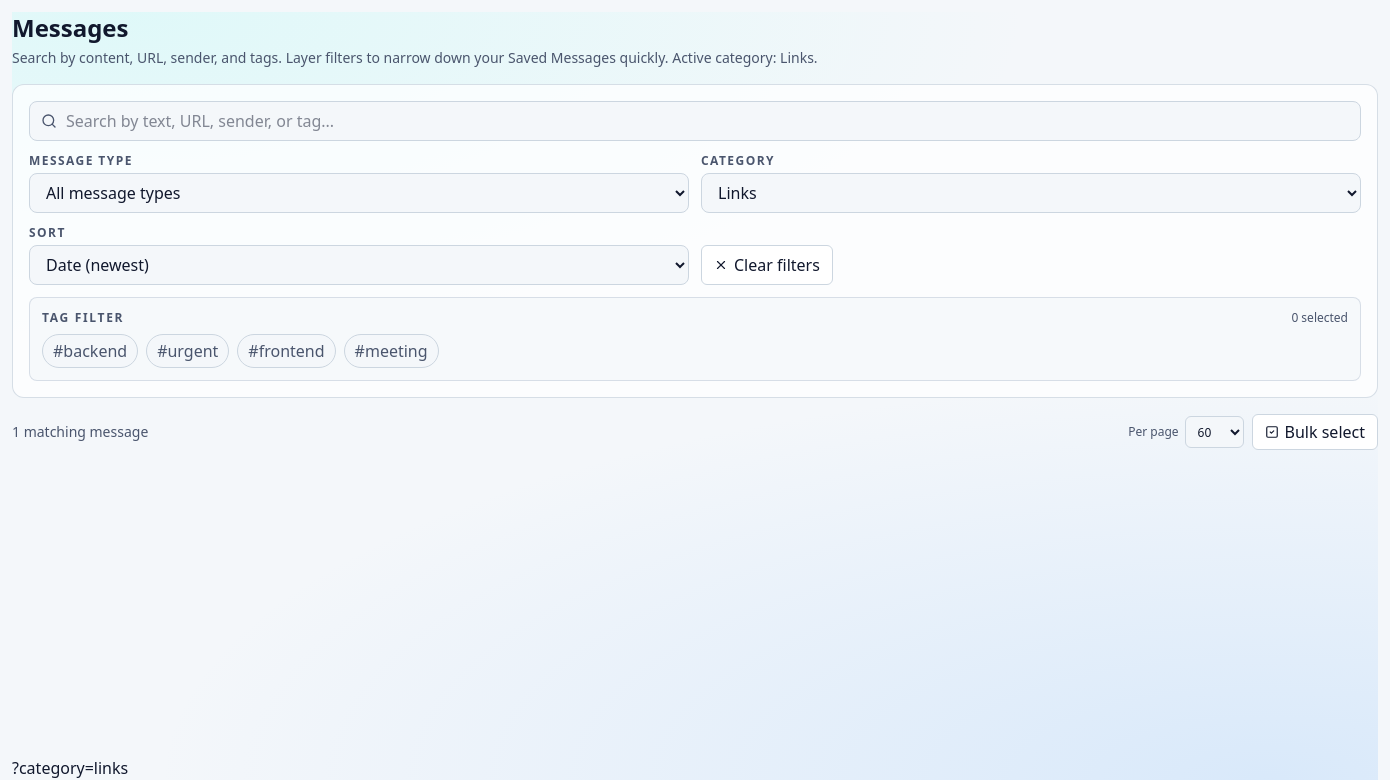
Scenario: MessagesPage filters › applies category and tag filters from controls
Expected: the text "1 matching message" is shown, [12, 422, 148, 442]
Step 1. Select "All categories" in the dropdown labelled "Category" → (1031, 193), box [701, 173, 1361, 213]
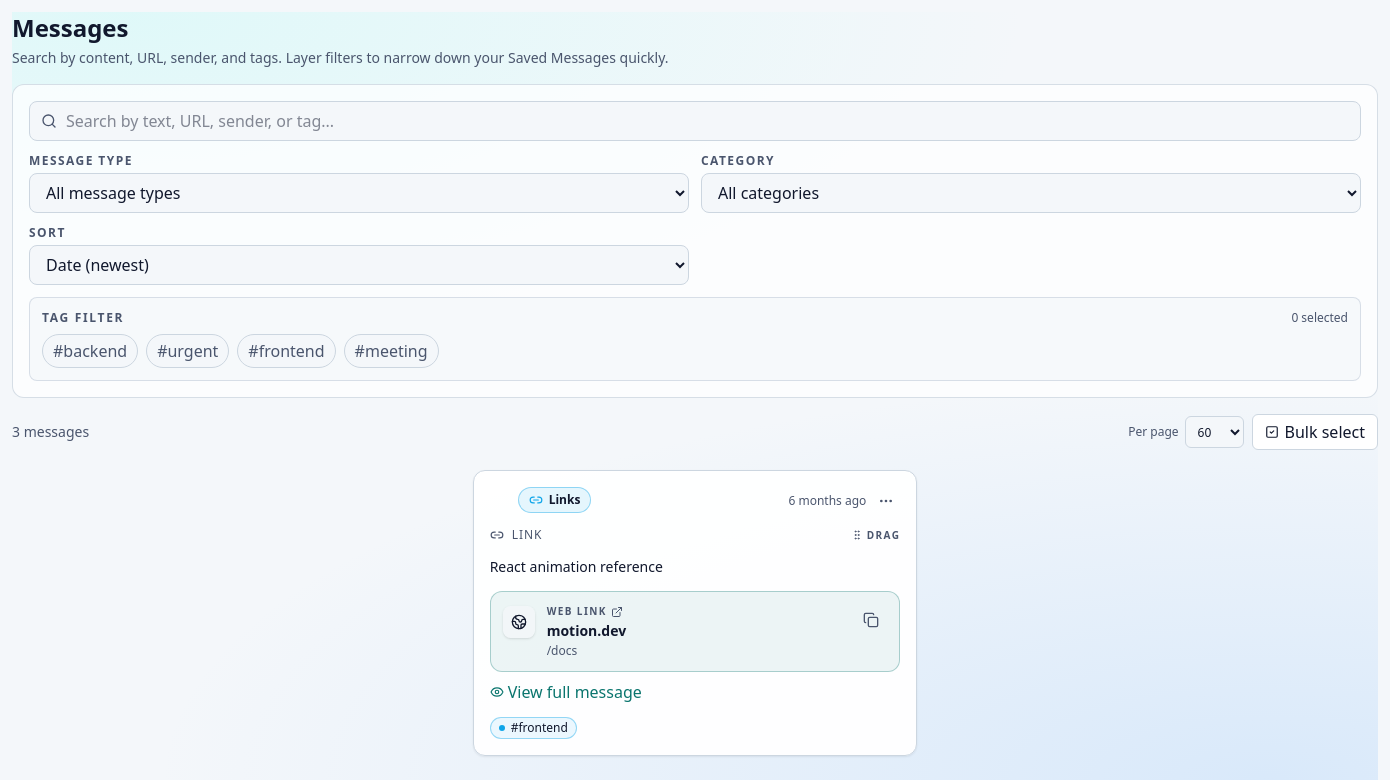
Now the text "3 messages" is shown, box [12, 422, 89, 442]
Step 2. Click the button "#frontend" → (286, 351), box [237, 334, 336, 368]
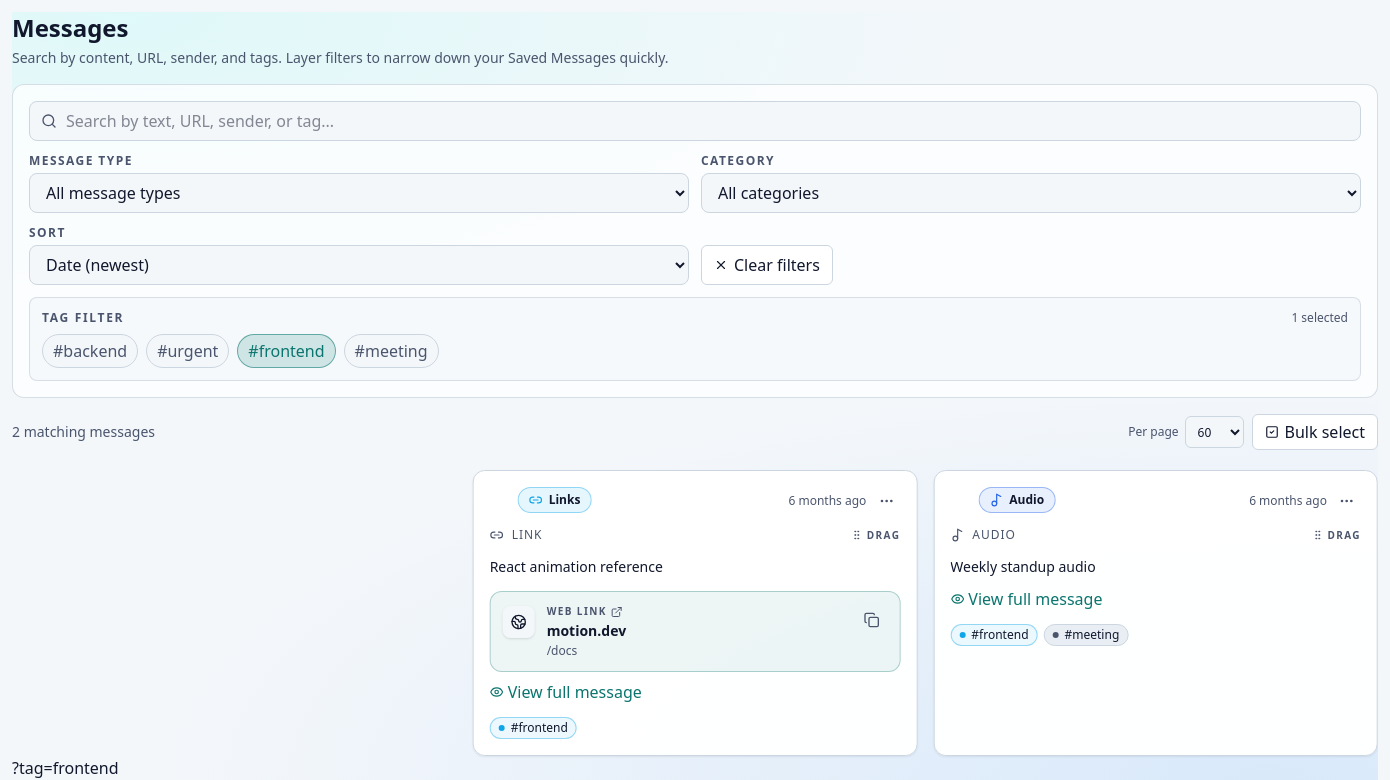
Now the text "React animation reference" is shown, box [490, 557, 663, 576]
Now the text "2 matching messages" is shown, box [12, 422, 155, 442]
Now the text "Weekly standup audio" is shown, box [950, 557, 1096, 576]
Step 3. Click the button "#meeting" → (391, 351), box [344, 334, 439, 368]
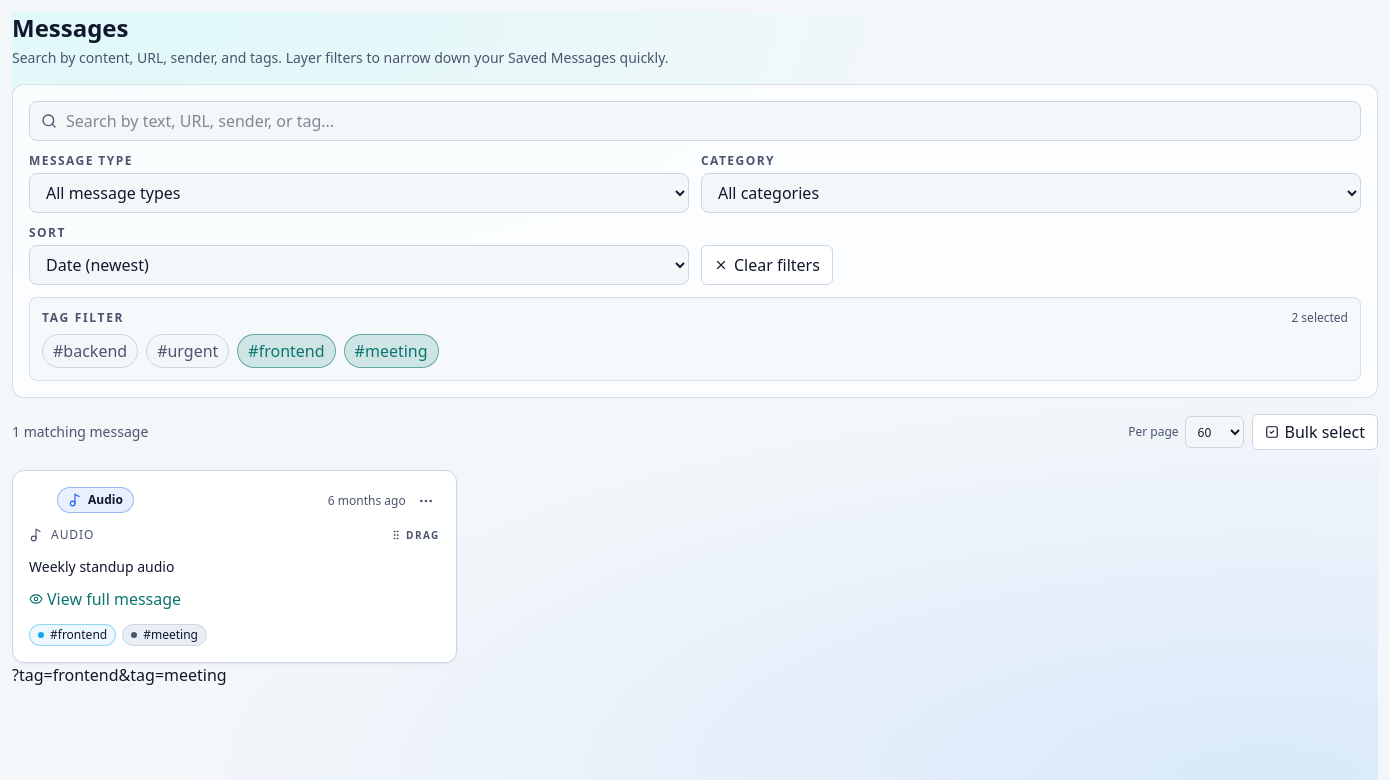
Now the text "Weekly standup audio" is shown, box [29, 557, 174, 576]
Now the text "1 matching message" is shown, box [12, 422, 148, 442]
Now the text "React animation reference" is gone
